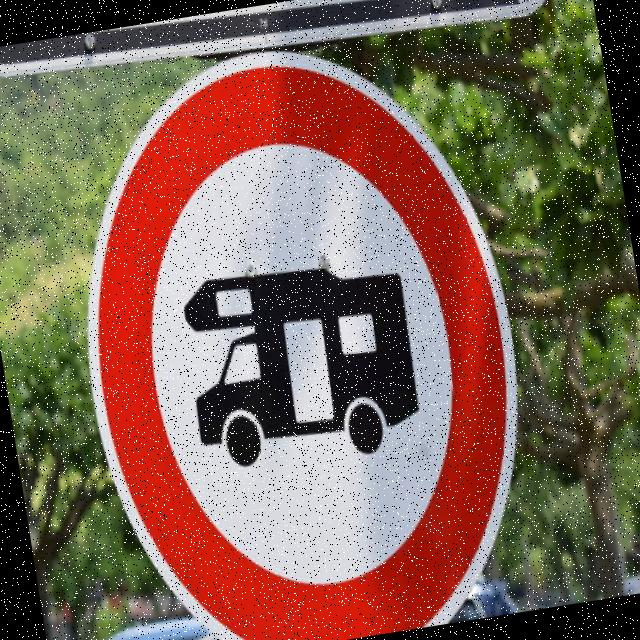do_not_enter: (35, 17, 560, 640)
